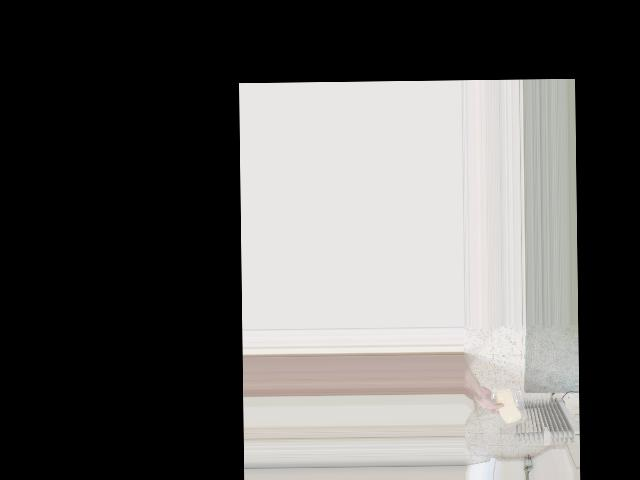cheese: (493, 386, 522, 427)
